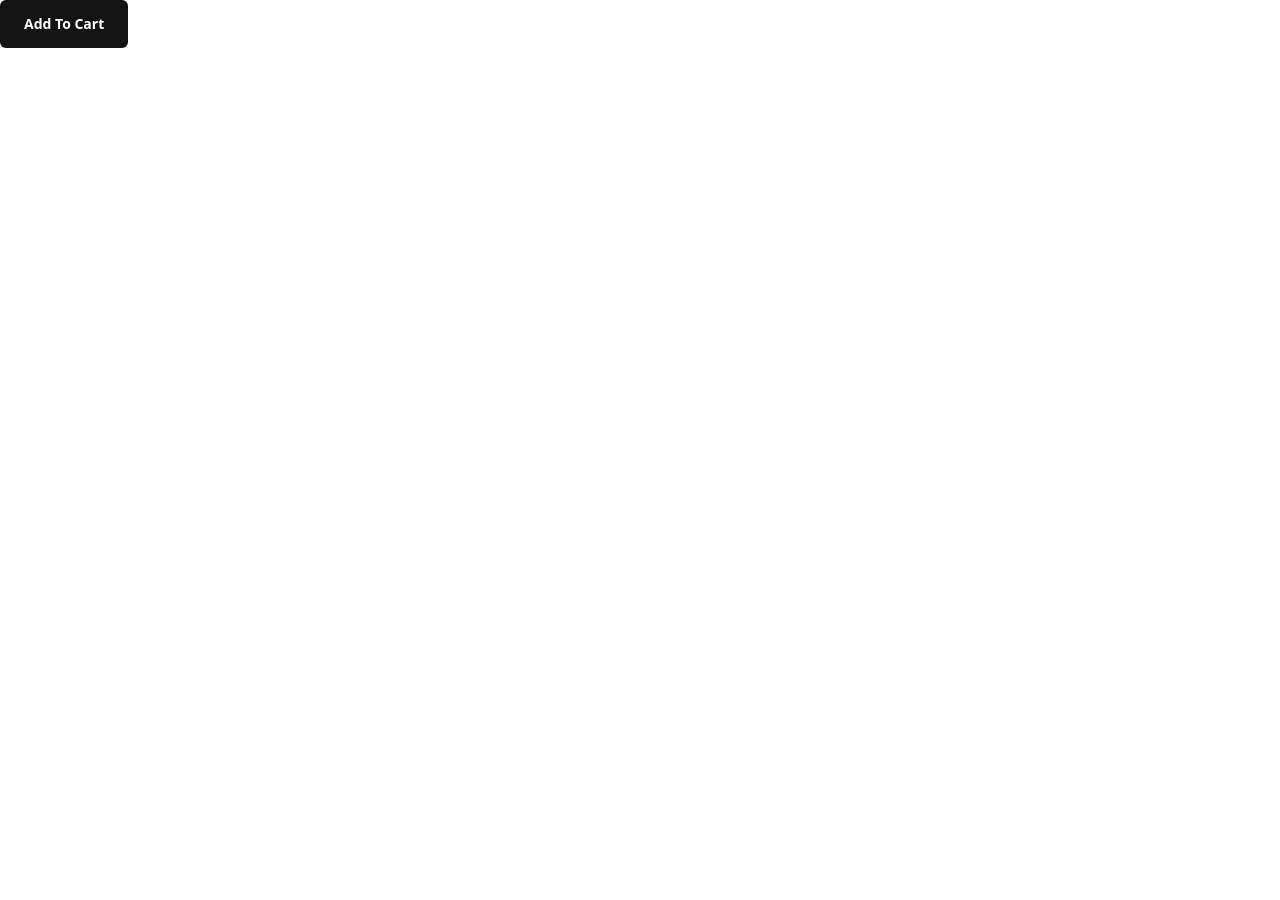
it: CartDrawer › opens with the new line when AddToCartButton is clicked
This screenshot has width=1280, height=900.
Click the button "Add To Cart".
click(64, 24)  # box [0,0,128,48]
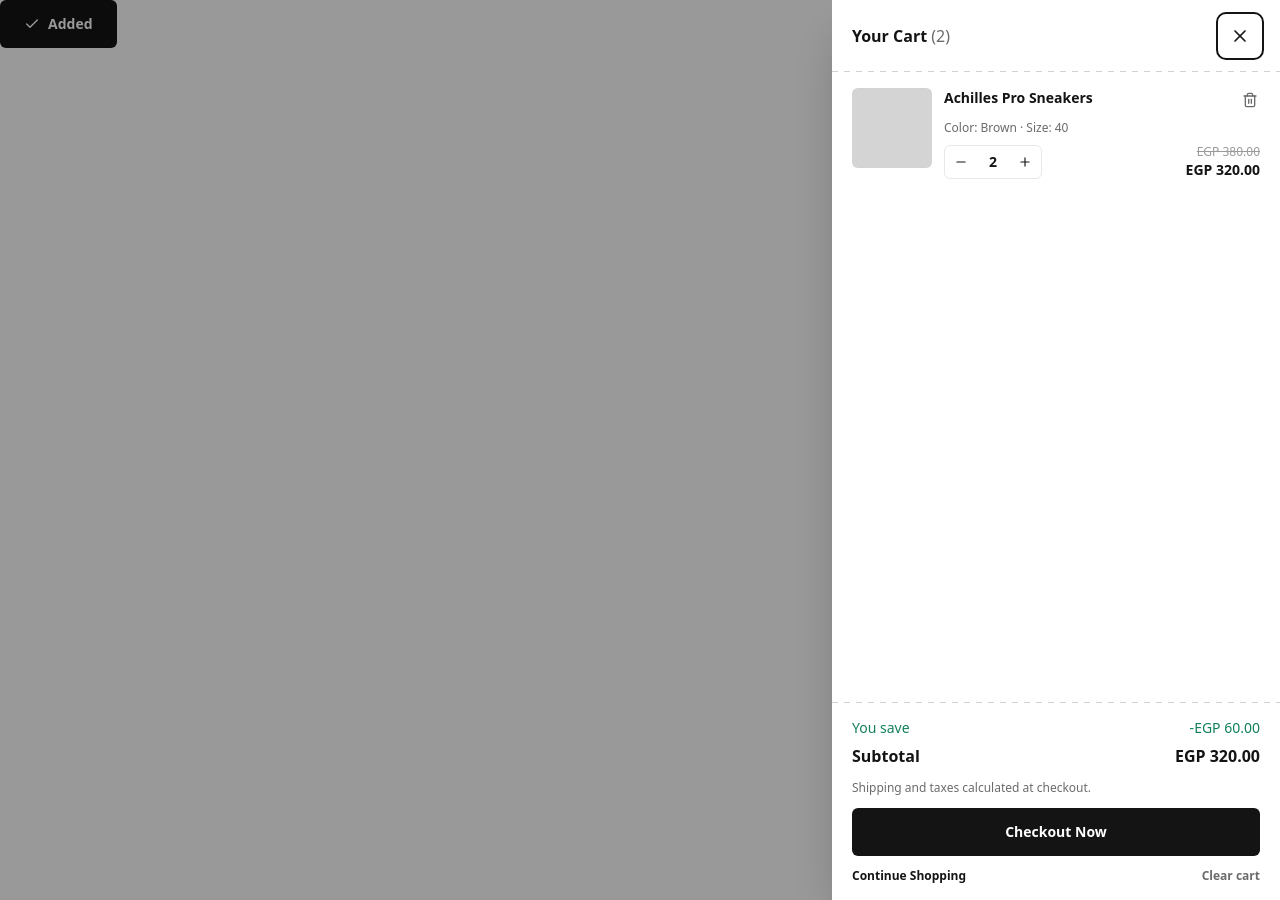
Now the list item "Achilles Pro Sneakers" is shown, box [852,72,1260,196]
Now the number field named "quantity for" holds "2", box [977,152,1009,172]
Now the button "Added" is shown, box [0,0,116,48]
